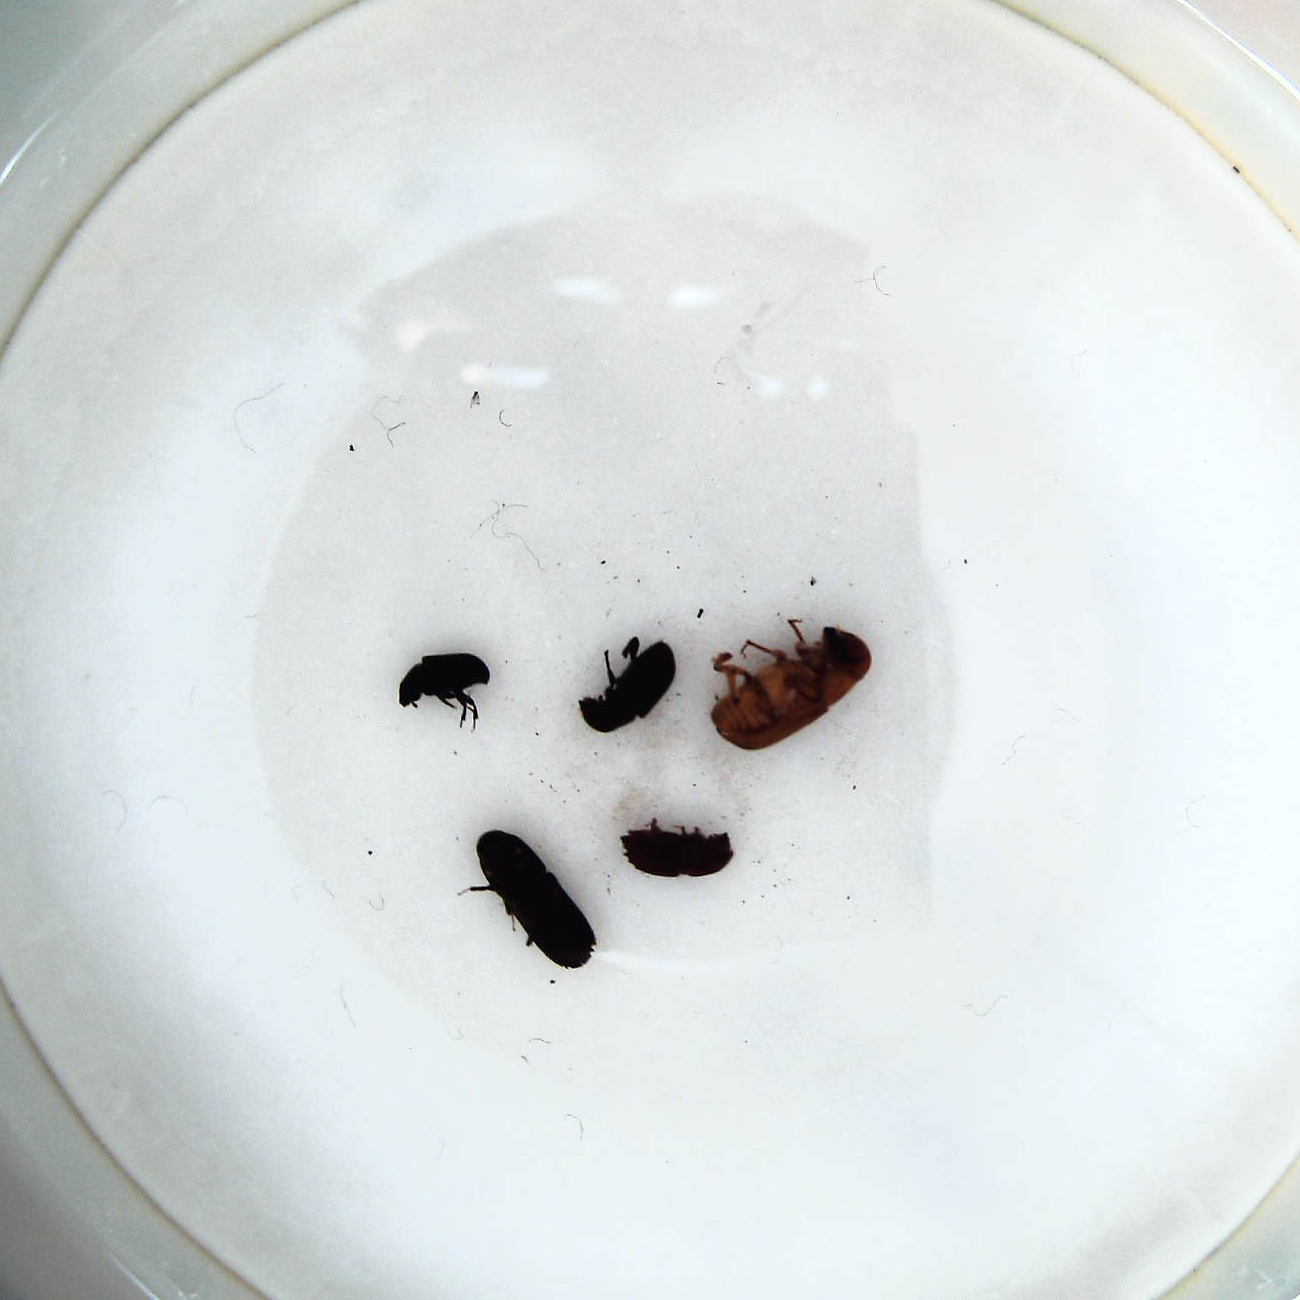Boerner: (467, 825, 599, 971)
Leconte: (706, 615, 871, 751)
armandi: (571, 635, 679, 735)
coleoptera: (396, 649, 490, 735)
linnaeus: (613, 815, 738, 883)
